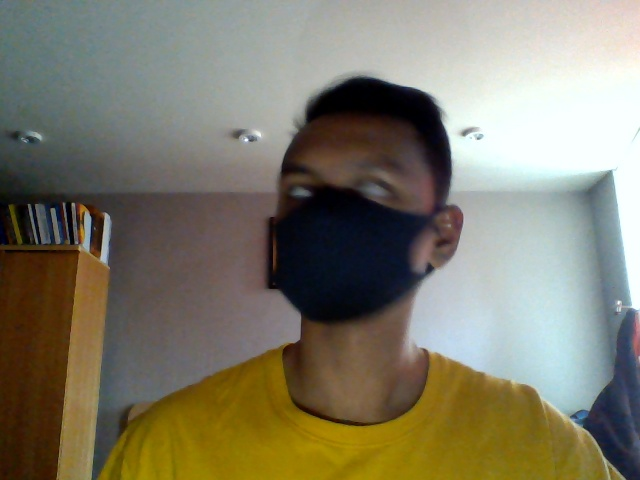mask: (275, 188, 422, 322)
